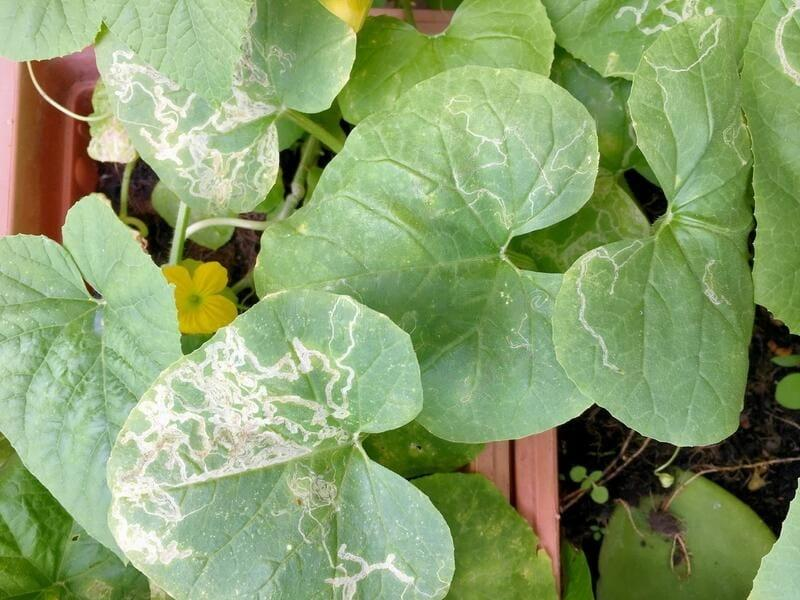Leaf_Miner: (102, 284, 456, 600)
